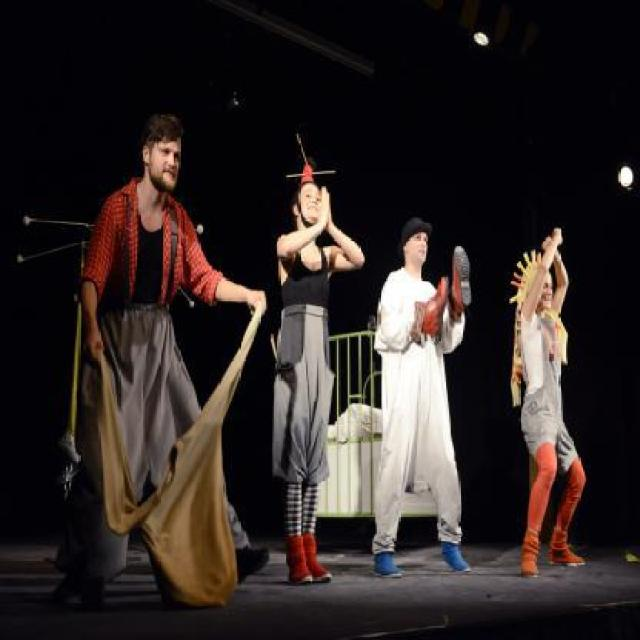Person: (49, 115, 271, 610), (276, 162, 364, 586), (373, 217, 472, 580), (504, 223, 588, 586)
